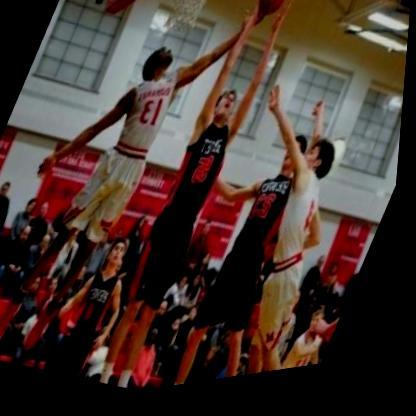basketball: (246, 0, 299, 35)
